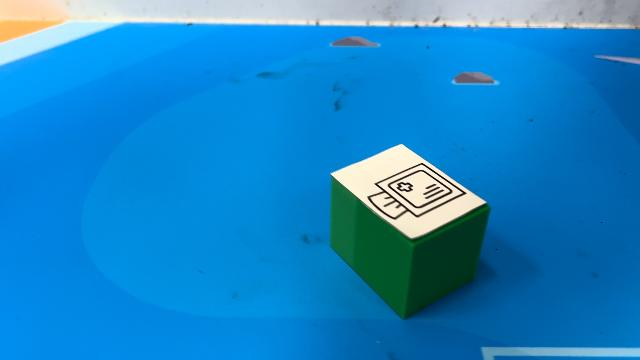napkin: (328, 141, 492, 319)
